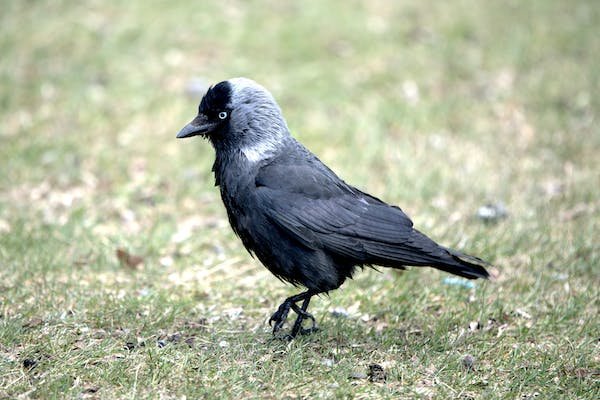Walking: (148, 76, 506, 357)
